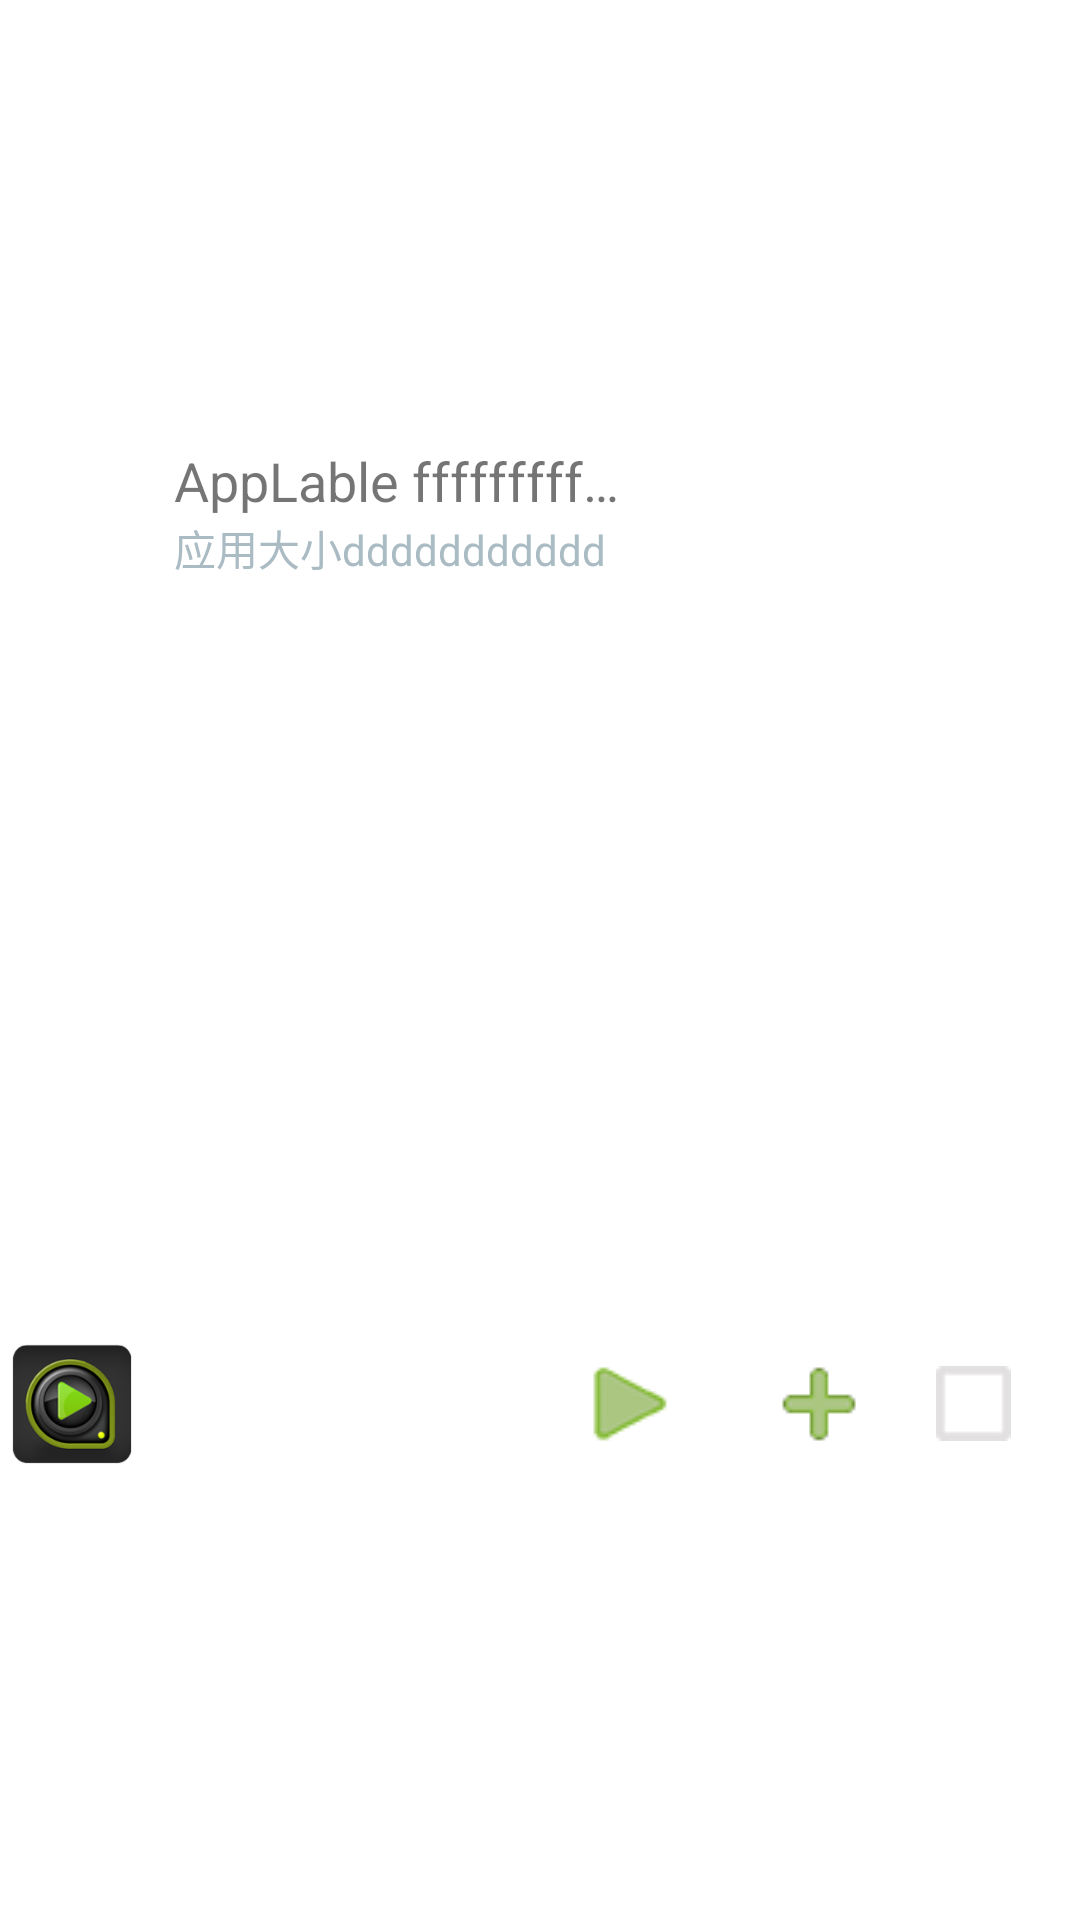

Where to tap for icons on this 1080px x 1920px app screen, as [x,y]:
add: [819,1404]
checkbox: [973,1403]
start: [630,1404]
